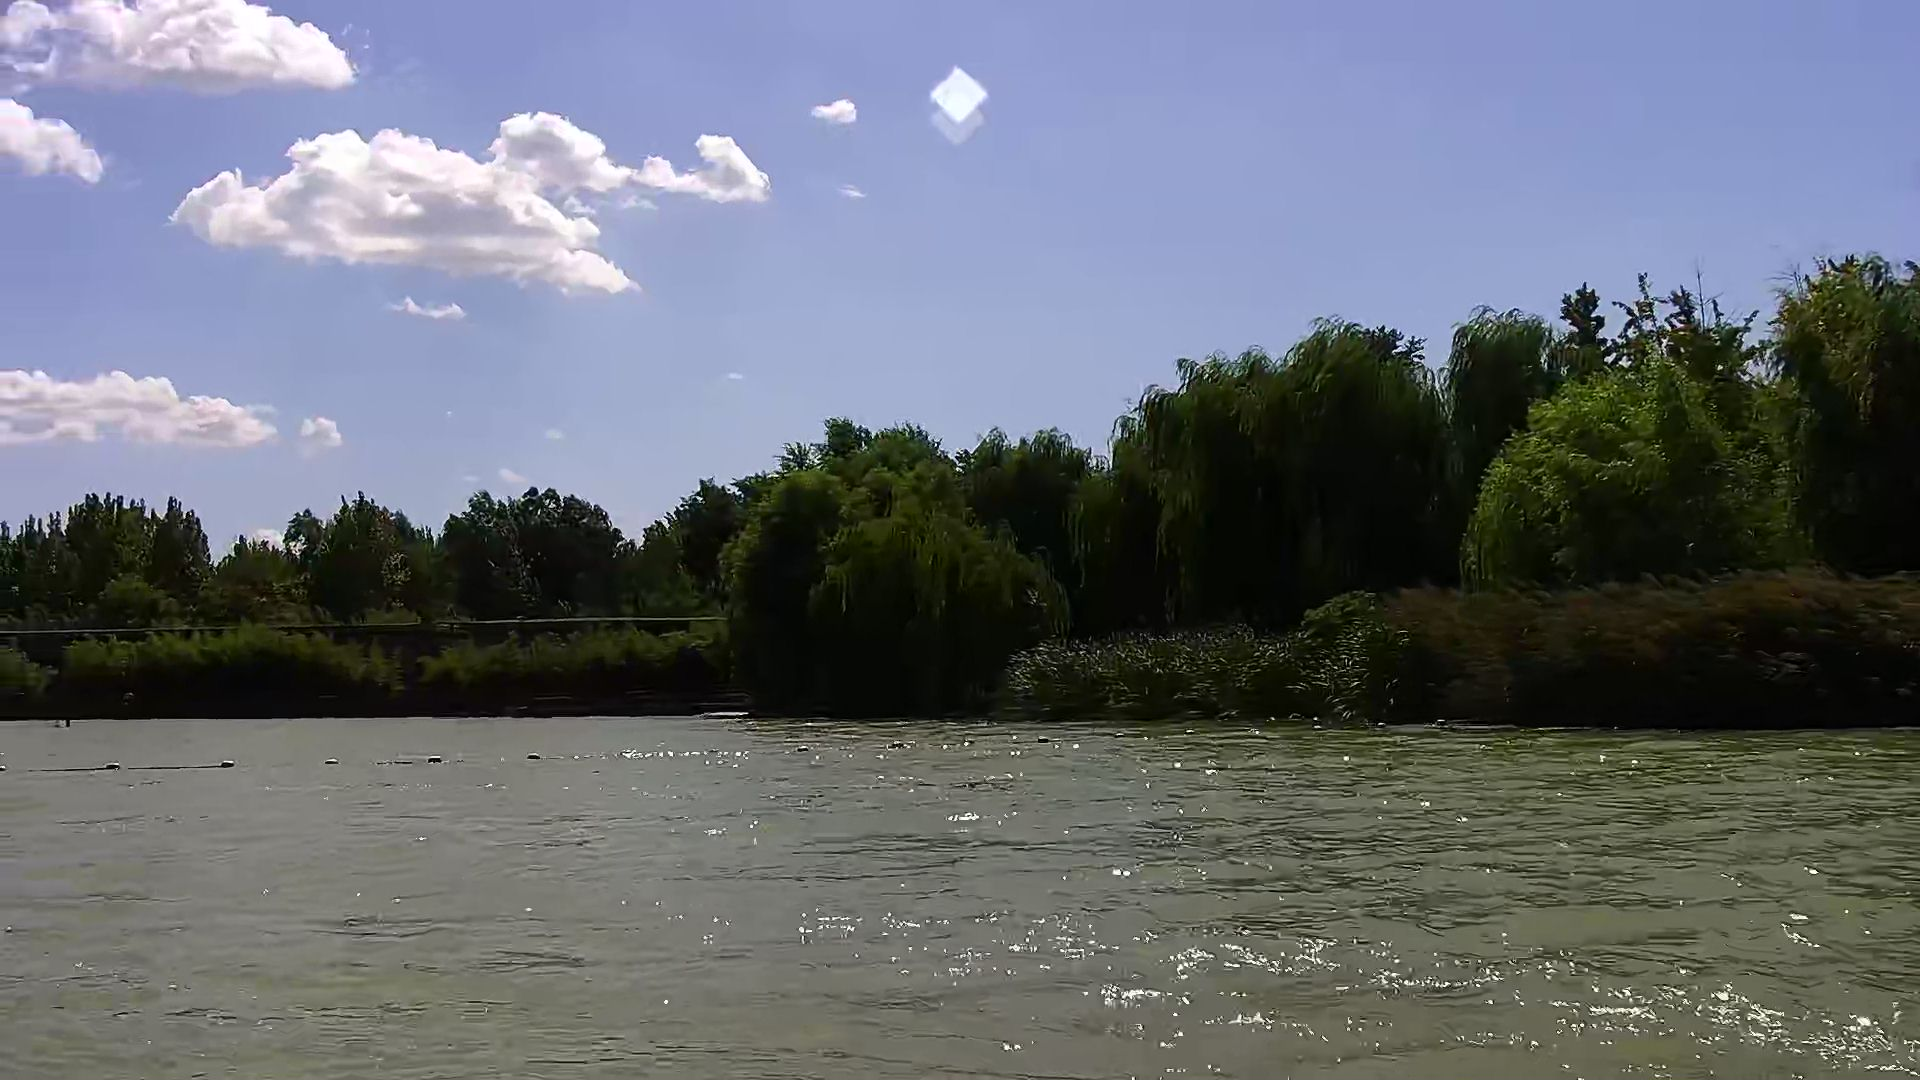ball: (214, 754, 244, 777), (103, 752, 125, 778), (318, 752, 344, 771)
